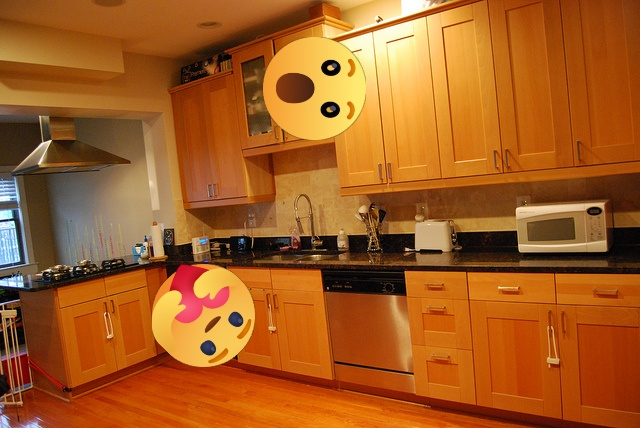care: (152, 264, 255, 367)
wow: (263, 37, 366, 140)
